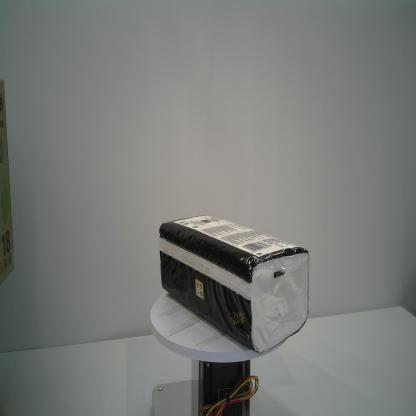Tissue: (158, 212, 312, 357)
